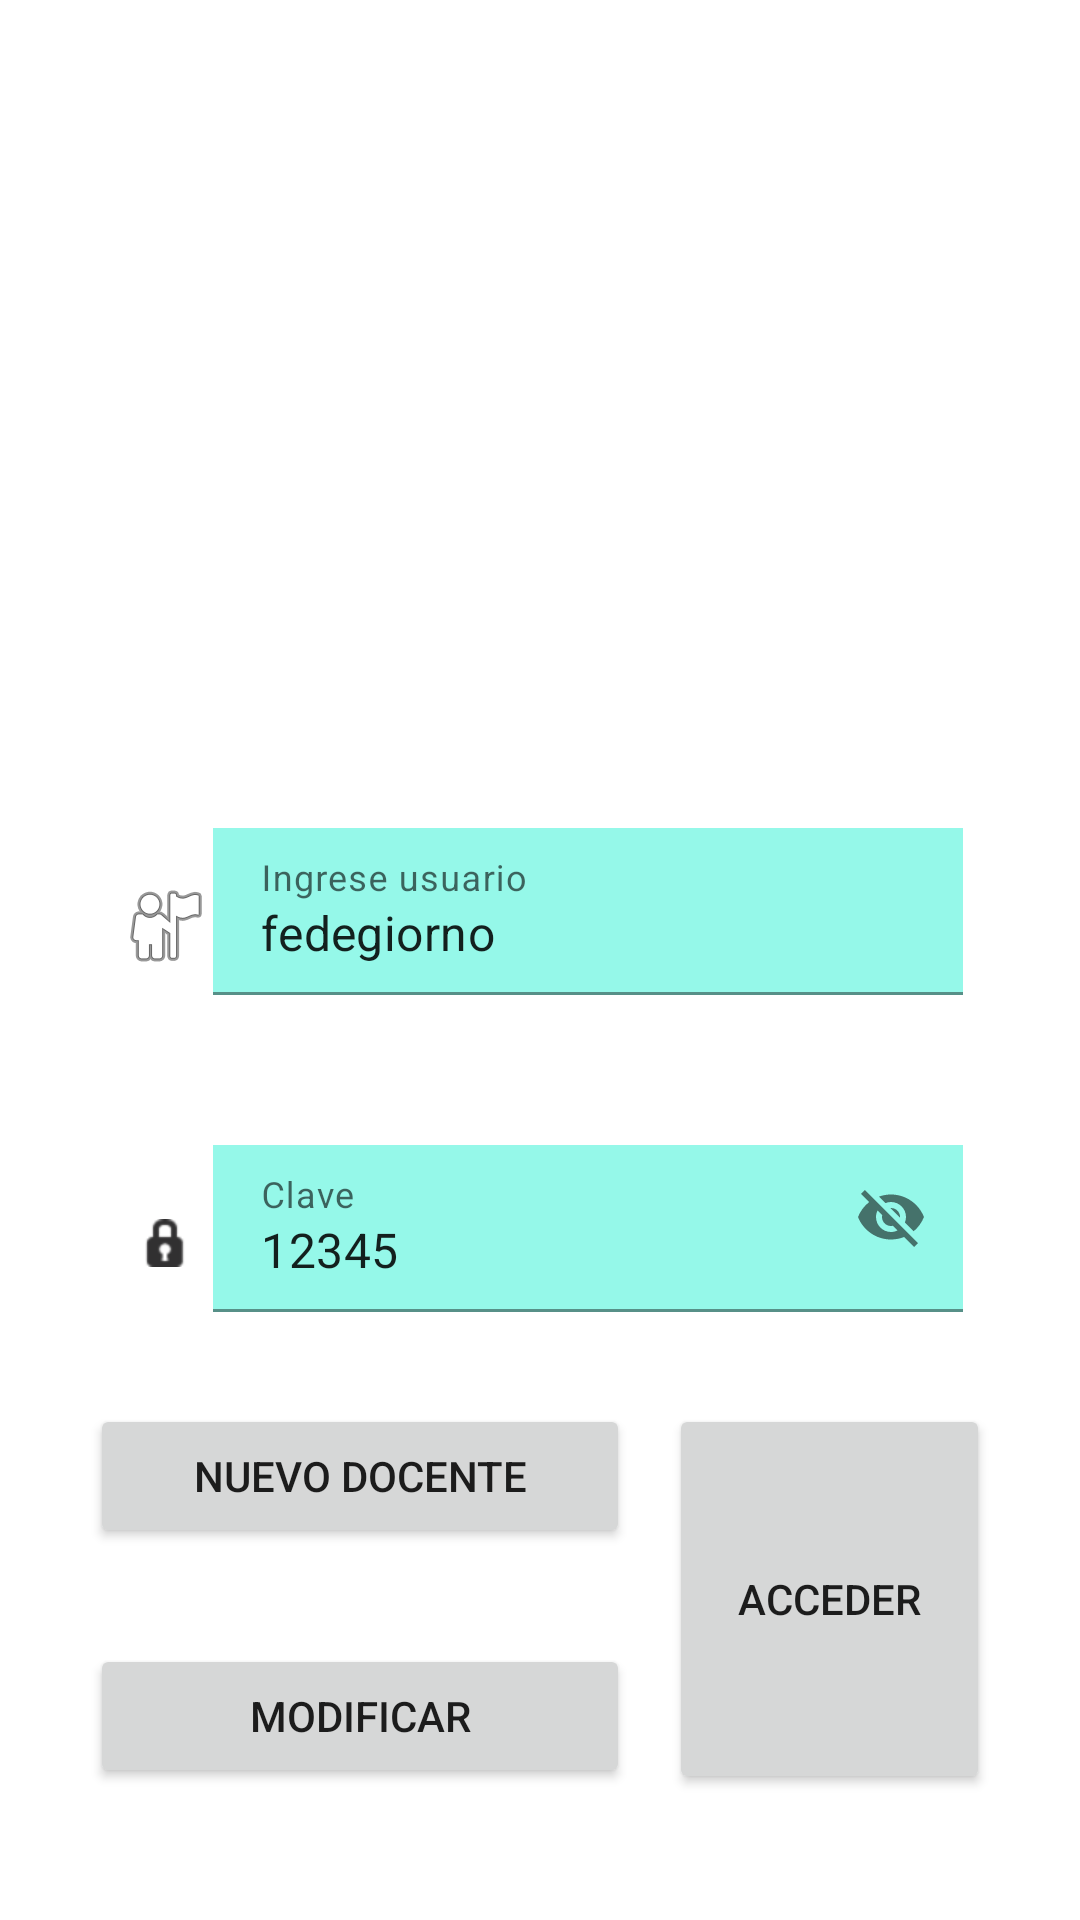

Icon click points for this 1080×1920 phone screenshot, format point (x, y):
secure: point (165, 1243)
